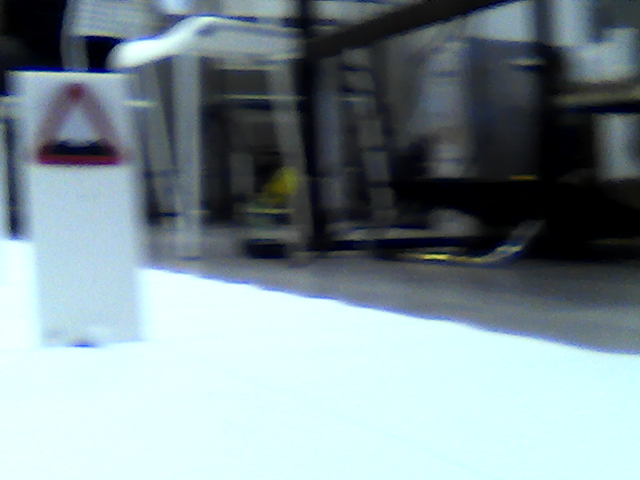Nerov: (33, 84, 123, 170)
